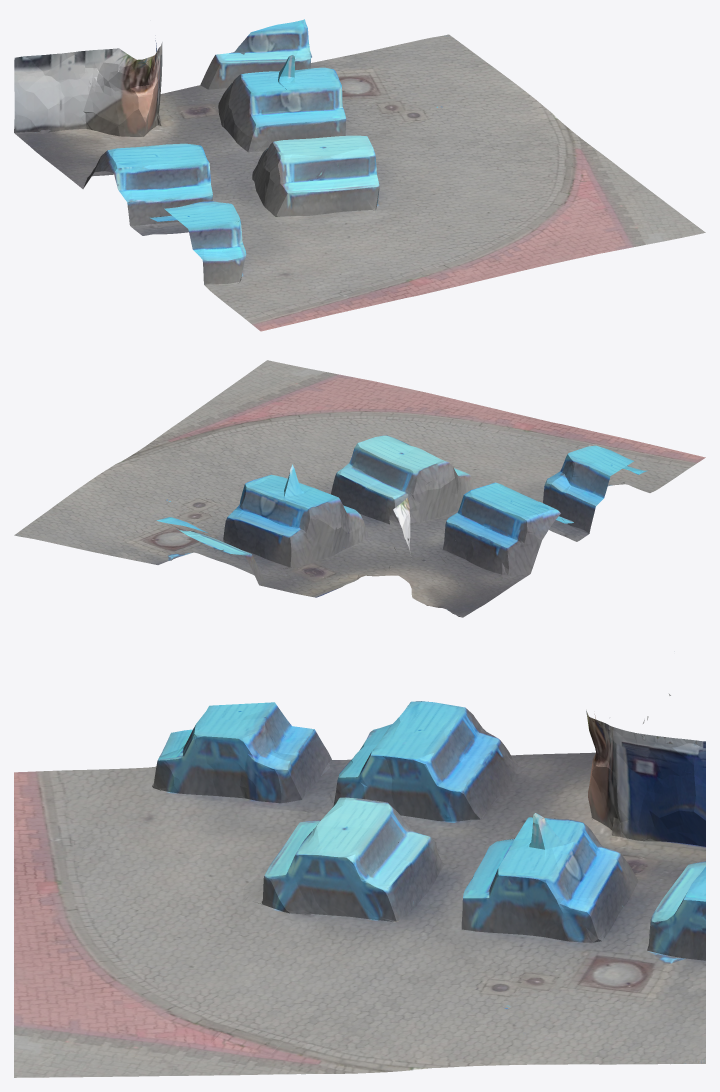
3 views of the same model, one above another, from view 1: azimuth 30°, elevation 25°; view 2: azimuth 150°, elevation 25°; view 3: azimuth 270°, elevation 25° (orthographic). The views are drawn at different scales.
Size of the model in its own units: 8.36 by 1.86 by 8.36.
3 materials, 3 textured.
